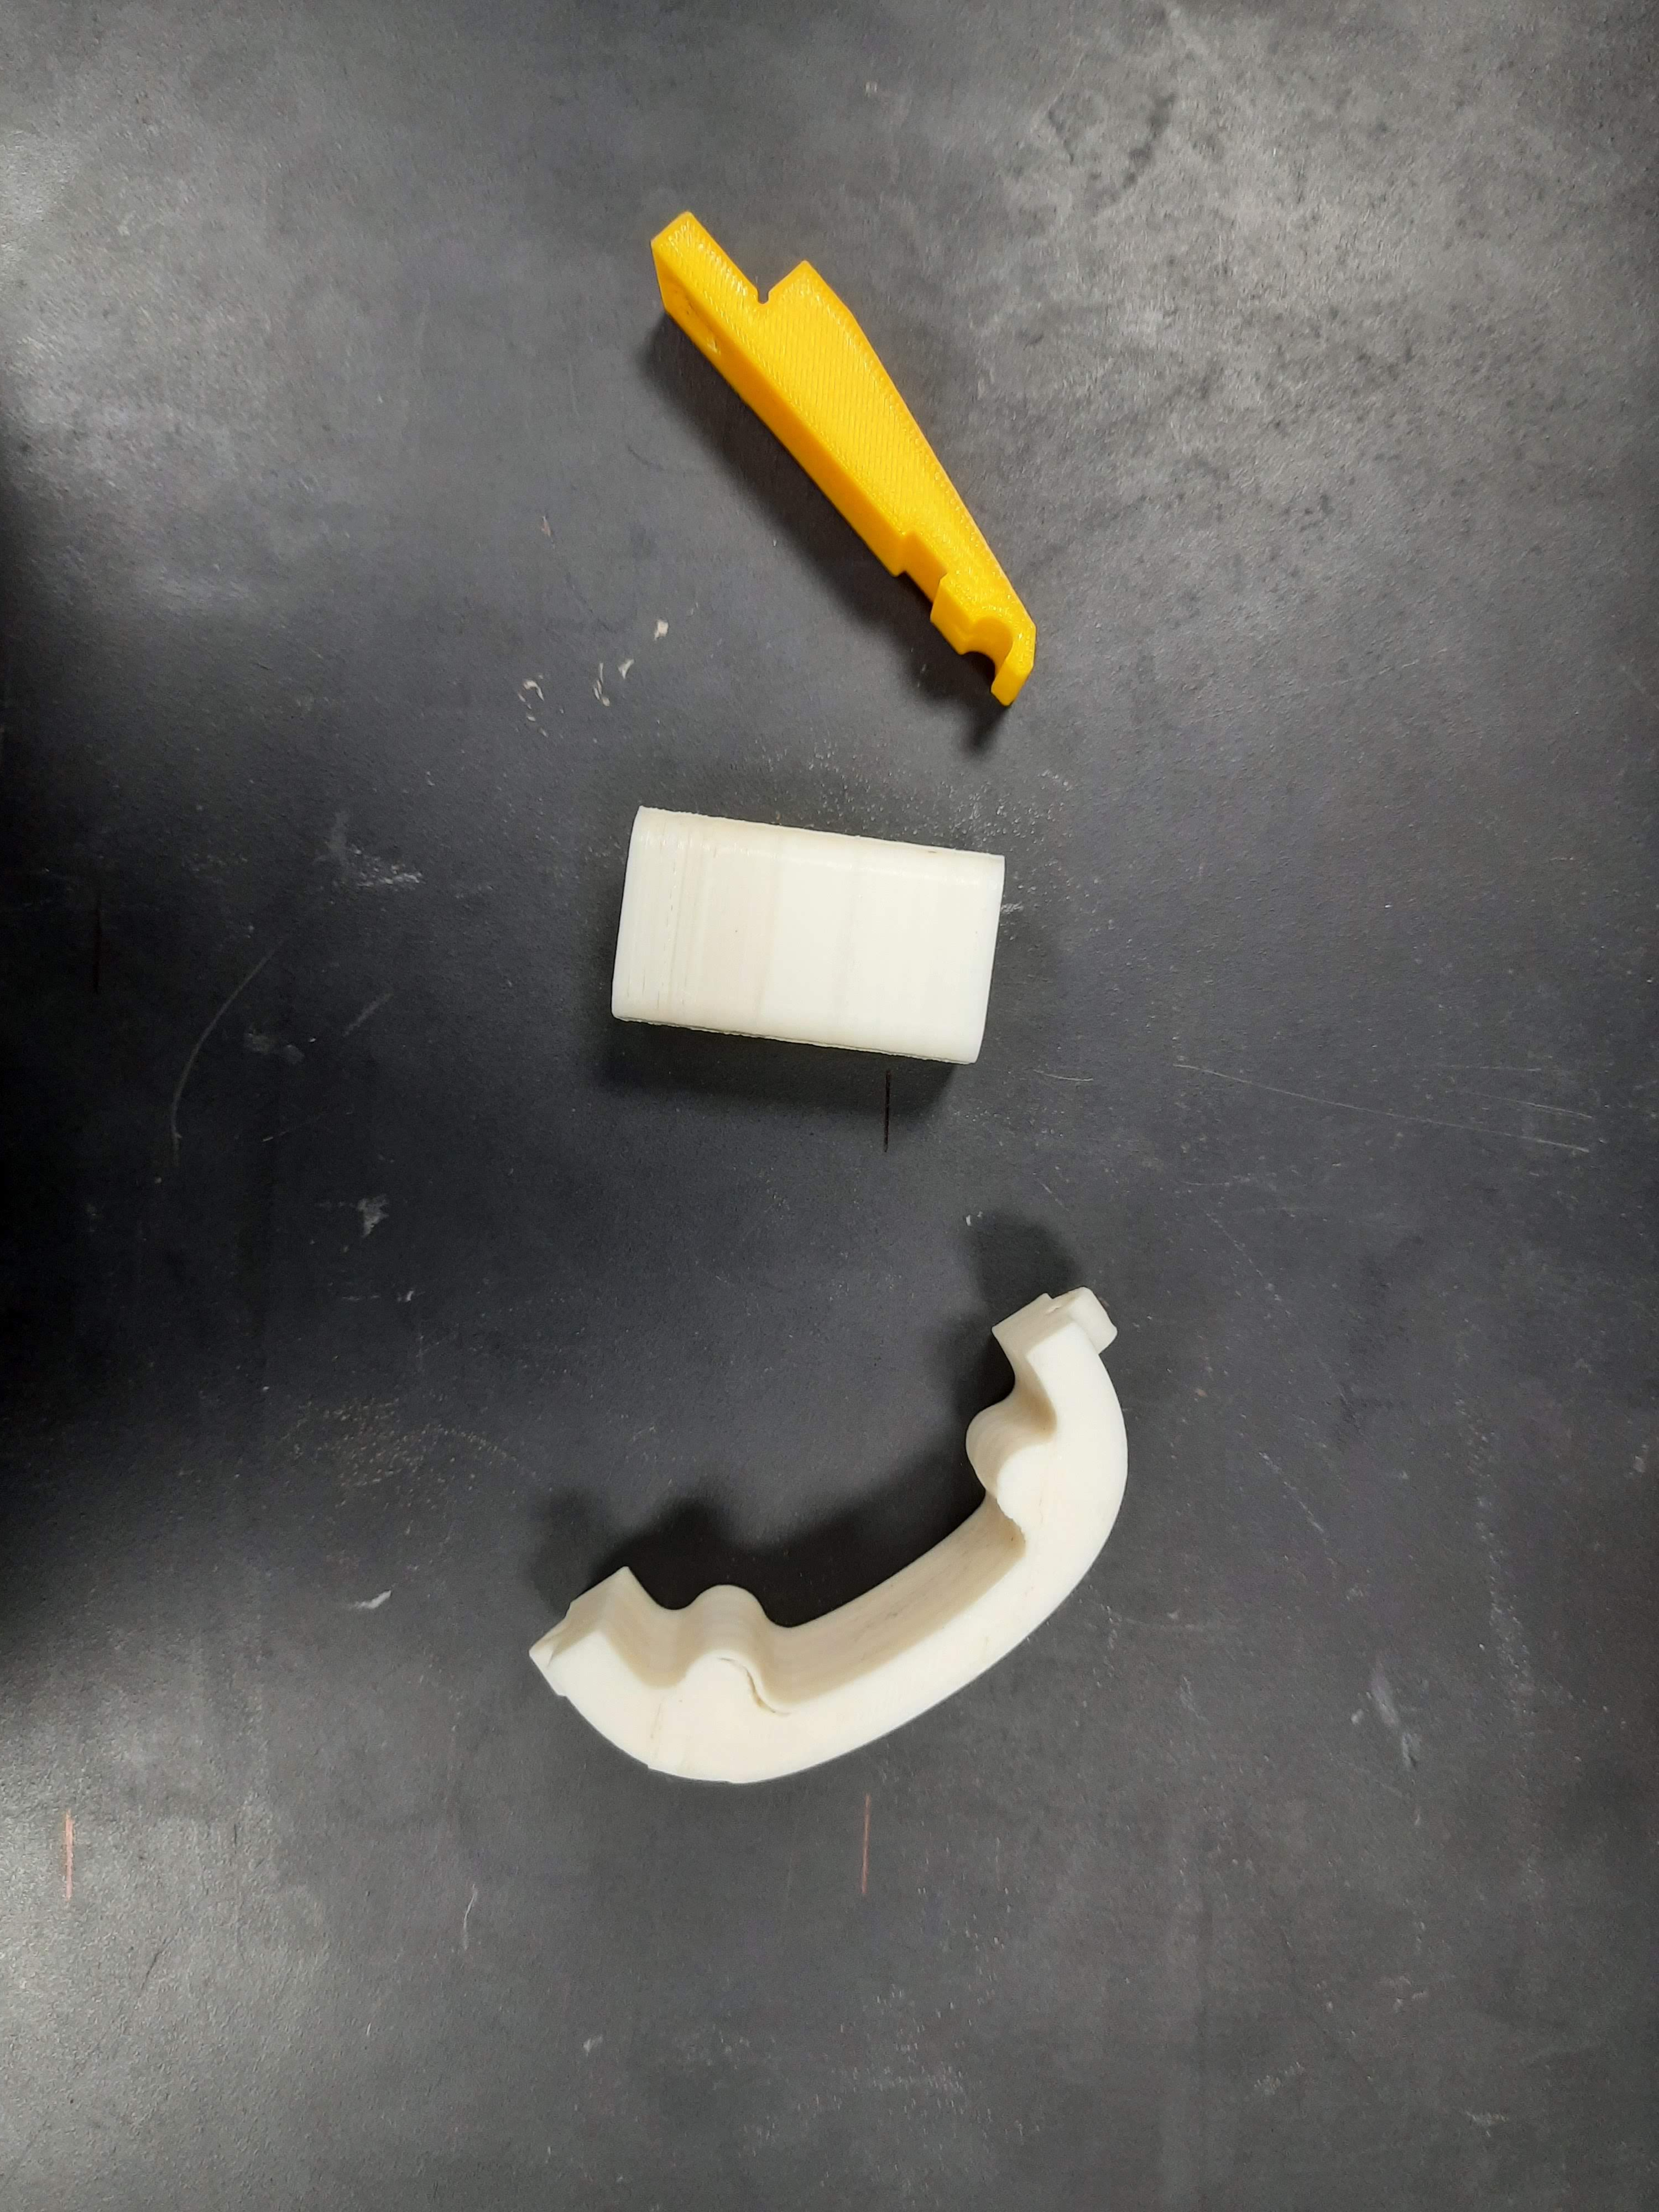ARC: (511, 1266, 1241, 1879)
CUBE: (606, 803, 1011, 1057)
YELLOW: (619, 165, 1122, 709)
